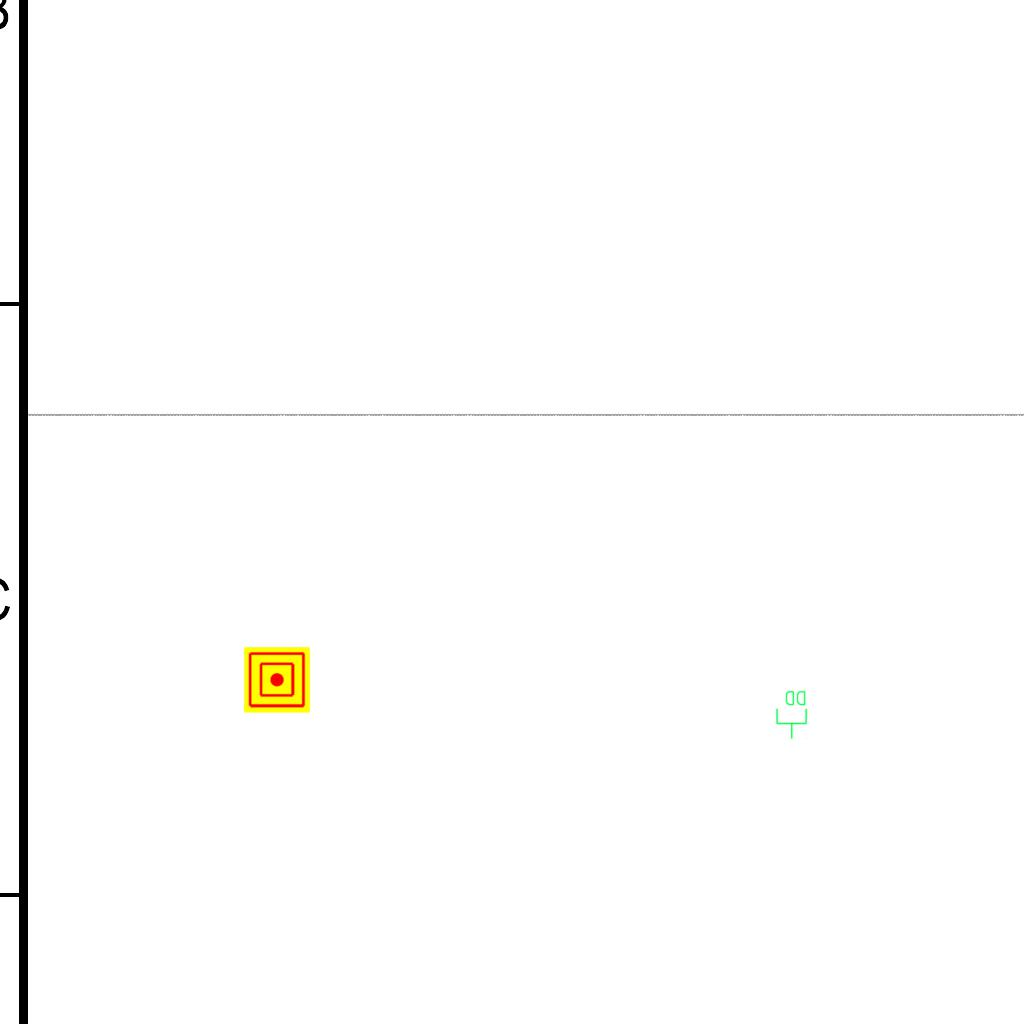Datenanschluss_zweifach: (775, 689, 809, 740)
NAM-Nichtautomatischer_Melder: (244, 647, 310, 713)
